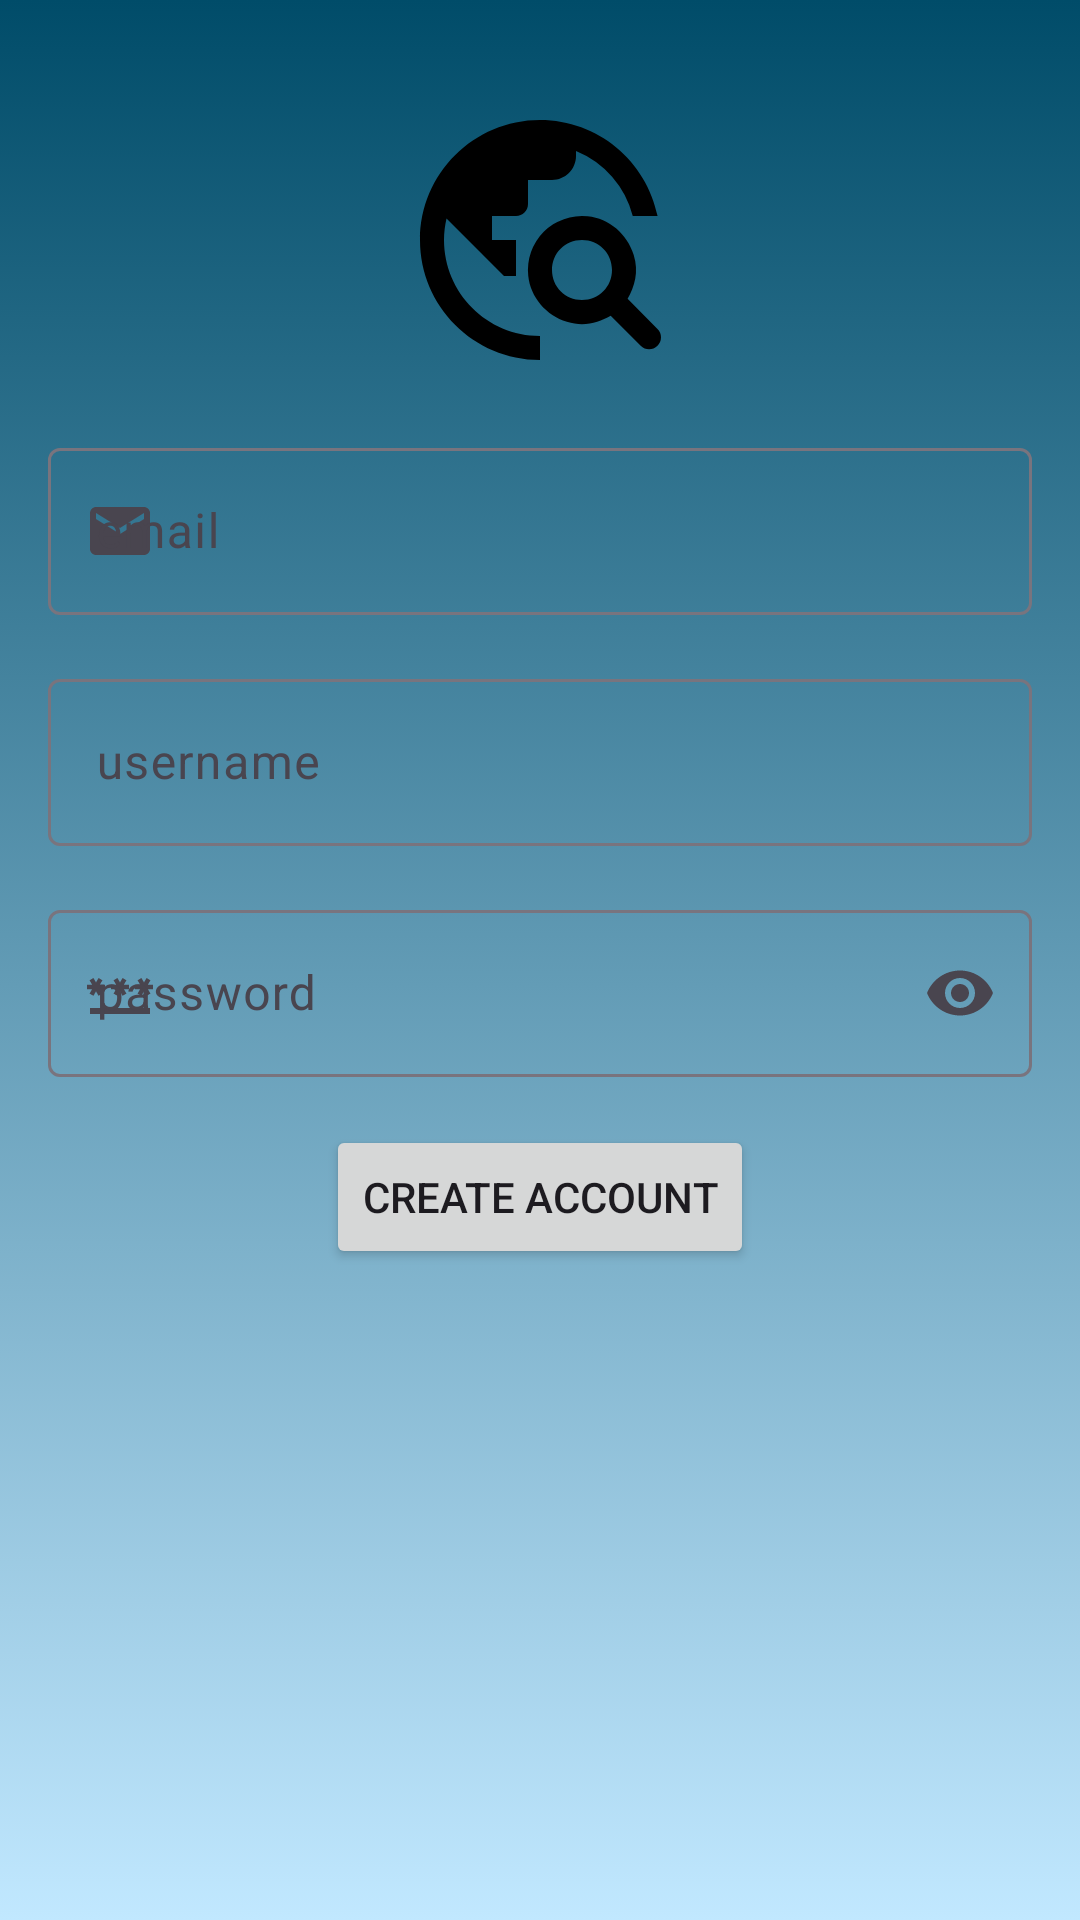

Named icons in this screenshot (1080 × 1920) and their bounding boxes, (x1, y1, x2, y2):
travel explore: (396, 120, 684, 384)
